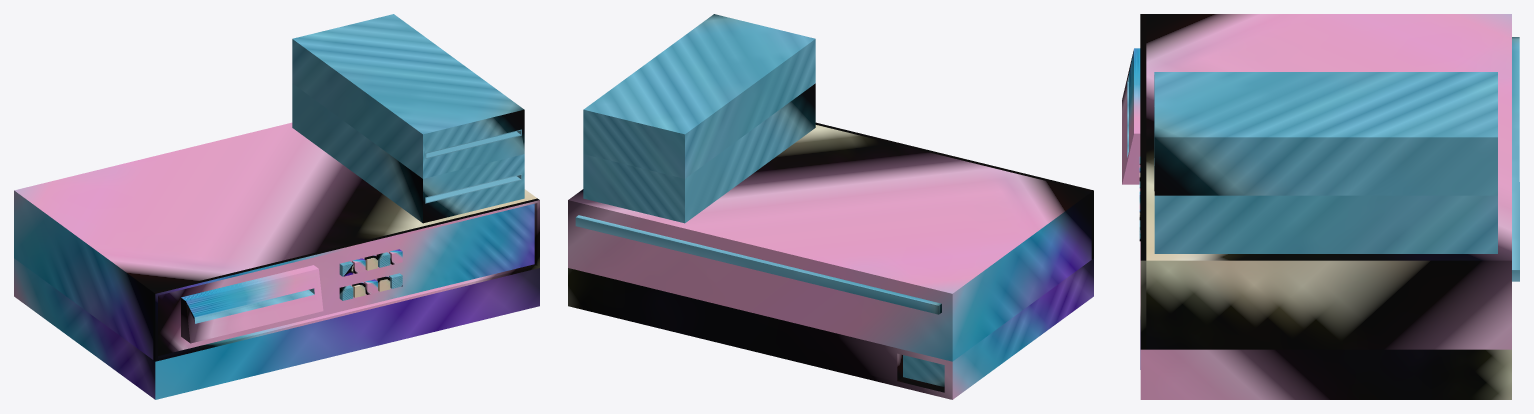
Rendered from Computer_Retro.glb.
The picture shows the model from 3 angles, left to right: view 1: azimuth 30°, elevation 25°; view 2: azimuth 150°, elevation 25°; view 3: azimuth 270°, elevation 25°; orthographic projection. The views are drawn at different scales.
Visible parts, largest first — view 1: Computer_Retro; view 2: Computer_Retro; view 3: Computer_Retro.
Part boxes in pixels (box(x1,y1,x2,y2)): Computer_Retro: box(14, 14, 539, 399); Computer_Retro: box(568, 14, 1093, 399); Computer_Retro: box(1122, 14, 1519, 399).
Bounding box in the file's own units: 4.92 × 2.39 × 3.36.
Materials: 1 (1 with a texture image).
